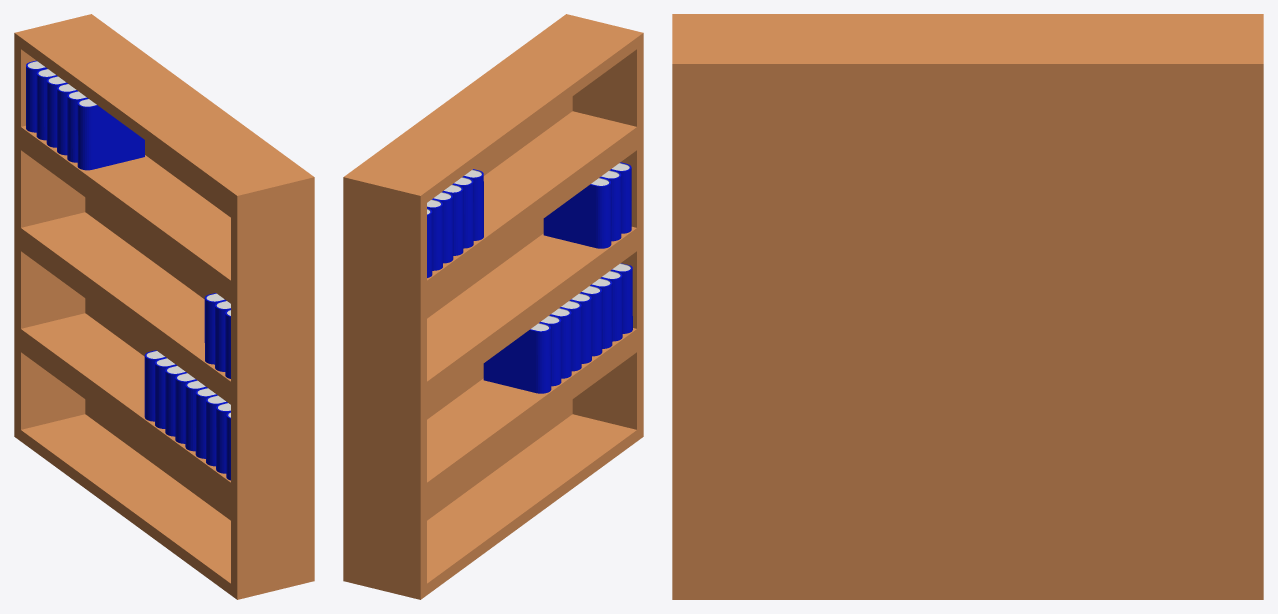
File: libreroAzulF.glb
The picture shows the model from 3 angles, left to right: view 1: azimuth 30°, elevation 25°; view 2: azimuth 150°, elevation 25°; view 3: azimuth 270°, elevation 25°; orthographic projection. The views are drawn at different scales.
Visible parts, largest first — view 1: Librero; view 2: Librero; view 3: Librero.
Boxes of the visible parts, <box> form: Librero: <box>14,14,314,599</box>; Librero: <box>343,14,643,599</box>; Librero: <box>672,14,1263,599</box>.
Size of the model in its own units: 0.67 by 3.35 by 3.35.
